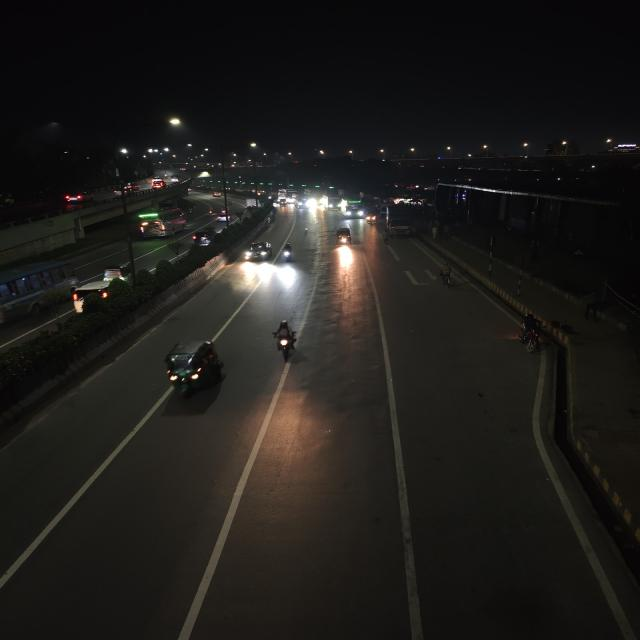bus: (0, 258, 73, 331), (136, 204, 185, 238), (342, 194, 365, 220), (322, 196, 343, 211)
car: (68, 278, 124, 306), (242, 239, 274, 265), (188, 229, 217, 247), (62, 192, 92, 206), (214, 212, 230, 223), (150, 180, 165, 190), (126, 184, 139, 192)
cng: (157, 337, 227, 402), (101, 263, 132, 283), (333, 225, 355, 247)
motorcycle: (268, 317, 303, 365), (513, 312, 548, 356), (278, 241, 296, 265)
pedestrian: (436, 264, 458, 288), (429, 222, 442, 240)
truck: (383, 205, 415, 240)
